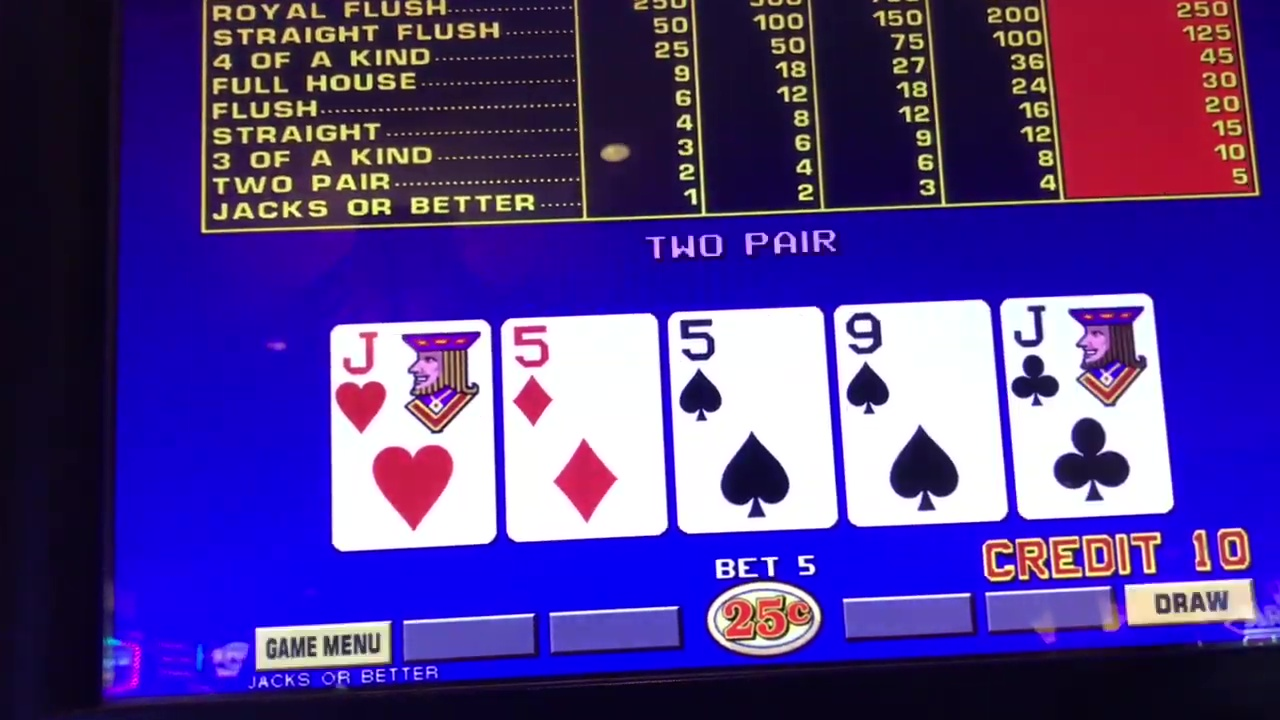CJ: (1014, 300, 1152, 514)
D5: (506, 320, 666, 539)
HJ: (336, 324, 494, 542)
S5: (679, 309, 823, 532)
S9: (847, 309, 992, 521)
